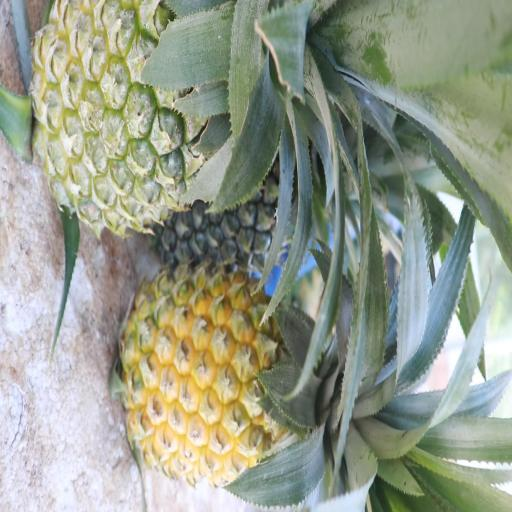------------------------------: (38, 0, 295, 224)
Pineapple - v8 v1: (124, 267, 354, 482)
